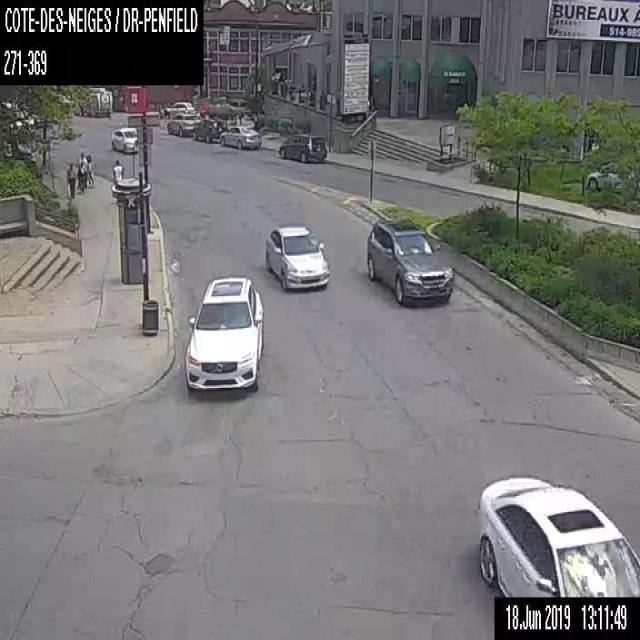pedestrian: (66, 161, 76, 200), (86, 152, 94, 186), (112, 159, 124, 181), (78, 160, 85, 195), (79, 151, 86, 185), (162, 103, 167, 125)
vehicle: (477, 473, 639, 596), (182, 273, 264, 396), (364, 219, 452, 304), (264, 223, 327, 289), (278, 133, 326, 163), (219, 125, 261, 149), (166, 112, 202, 135), (193, 117, 225, 142), (110, 126, 137, 152), (166, 100, 193, 115)
